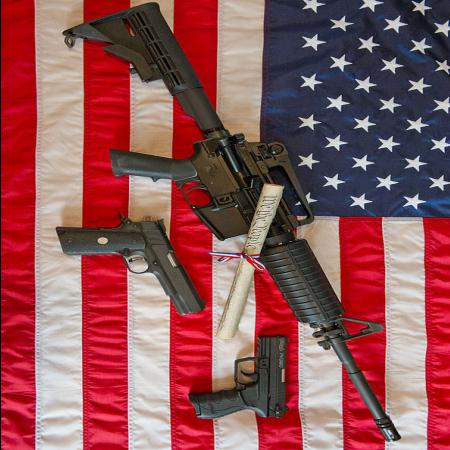Pistol: (54, 212, 208, 316), (184, 336, 294, 422)
